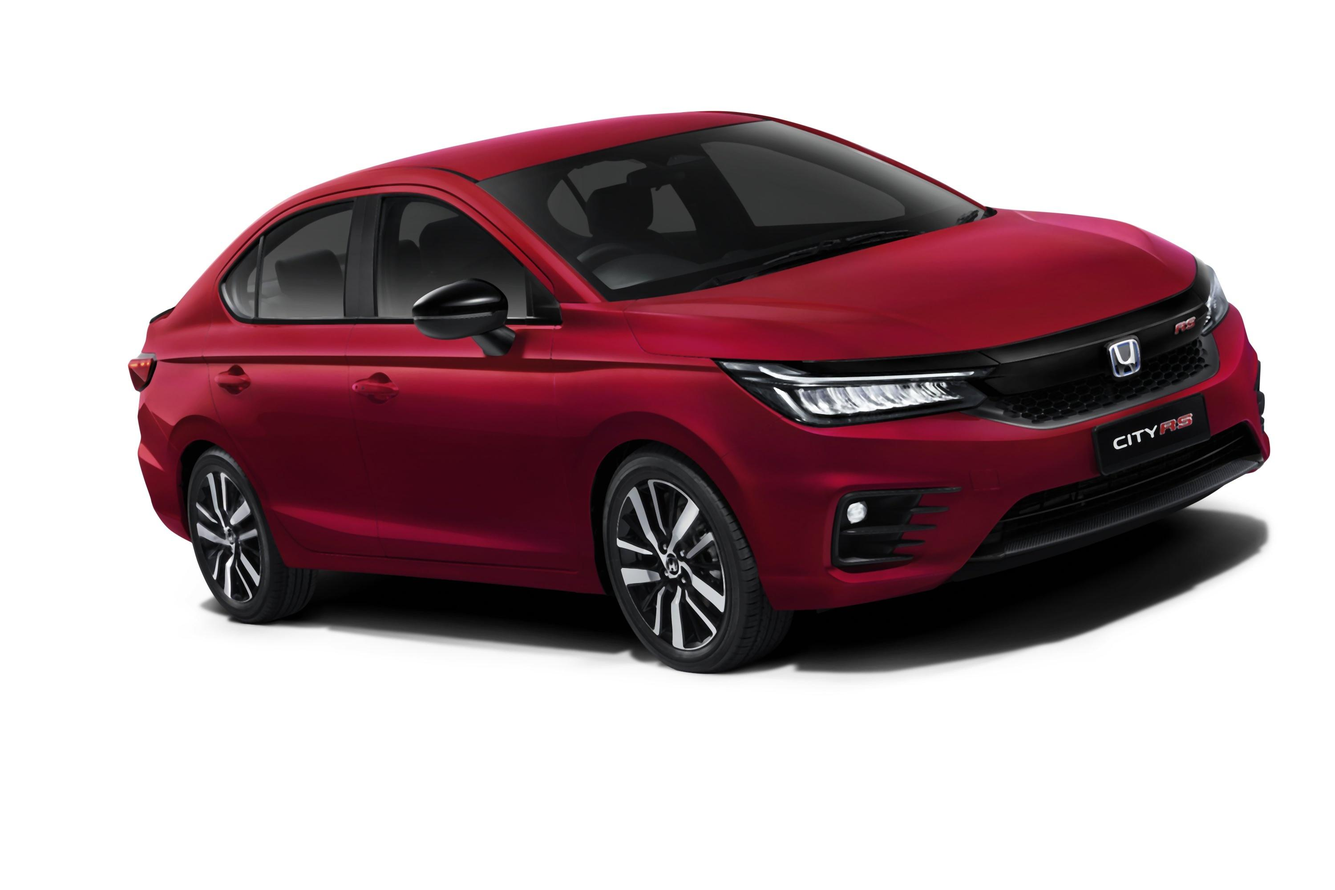Car hood: (619, 205, 1202, 362)
Driver-s door - -F-R-: (350, 163, 577, 568)
Fender - -F-R-: (556, 287, 757, 591)
Fender - -R-R-: (151, 324, 284, 585)
Front bumper: (728, 383, 1306, 621)
Headlight - -L-: (1177, 249, 1245, 336)
Headlight - -R-: (714, 349, 1002, 435)
Passenger-s door - -R-R-: (198, 163, 363, 566)
Rear bumper: (123, 403, 189, 538)
Rear light - -R-: (118, 343, 169, 399)
Side bumper - -R-: (256, 532, 614, 599)
Side mirror - -R-: (399, 260, 527, 366)
